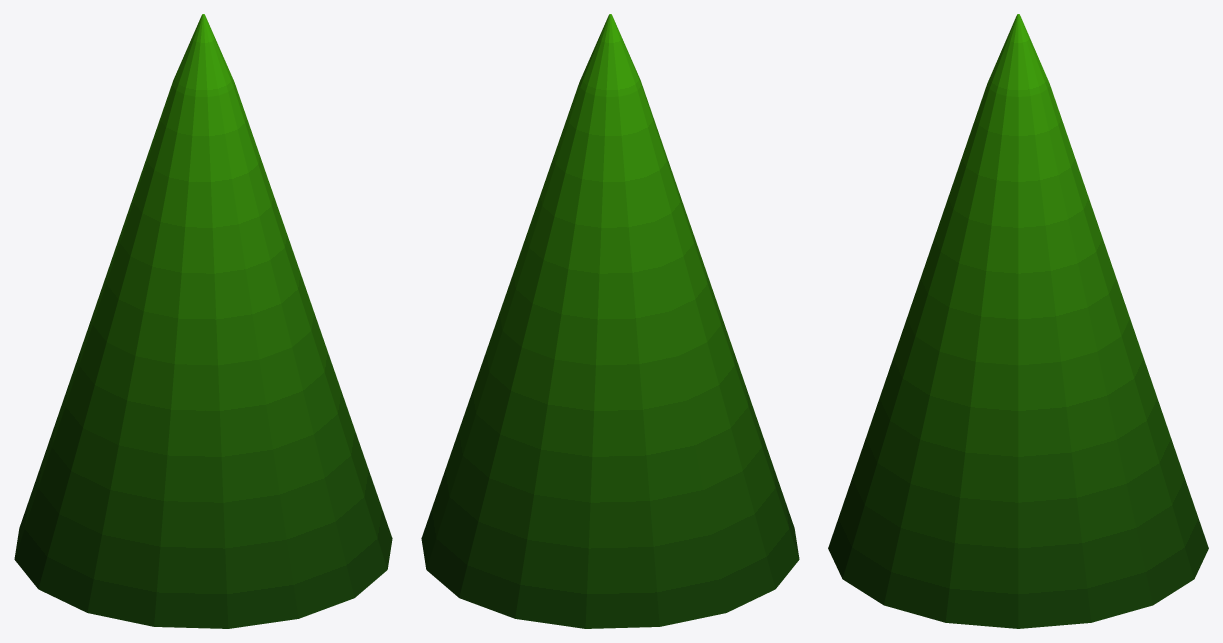
The model's file is Prefab_Xmas_Tree_A.glb.
3 views of the same model, side by side, from view 1: azimuth 30°, elevation 25°; view 2: azimuth 150°, elevation 25°; view 3: azimuth 270°, elevation 25° (orthographic).
Visible parts, largest first — view 1: Tree_A; view 2: Tree_A; view 3: Tree_A.
Boxes of the visible parts, bbox=[...] form: Tree_A: bbox=[14, 14, 392, 628]; Tree_A: bbox=[421, 14, 799, 628]; Tree_A: bbox=[828, 14, 1208, 628].
Size of the model in its own units: 1.37 by 2.12 by 1.37.
1 material, 1 textured.
